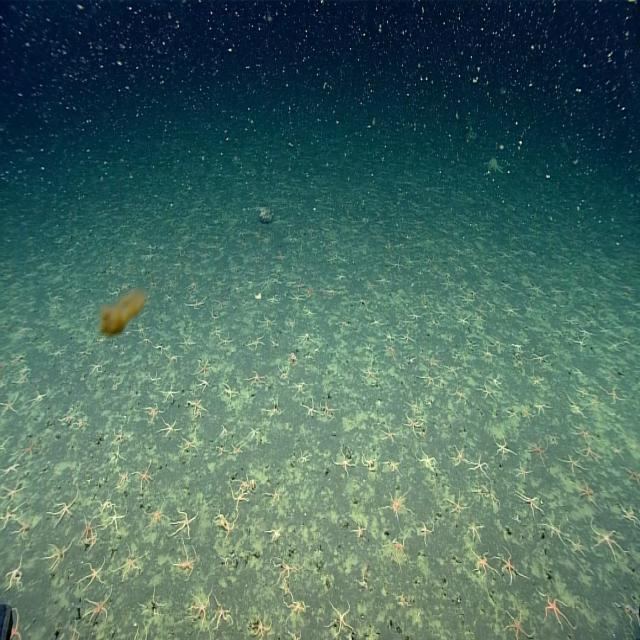brittle-stars: (182, 579, 218, 639), (0, 546, 36, 604), (534, 583, 576, 632), (585, 520, 628, 567), (536, 503, 574, 554), (319, 592, 359, 640), (111, 540, 154, 581), (73, 552, 113, 595), (464, 541, 500, 588), (80, 585, 118, 629), (168, 536, 206, 580), (41, 530, 78, 575), (607, 590, 639, 640), (226, 467, 262, 511), (497, 602, 538, 640), (511, 482, 547, 524), (279, 587, 314, 630), (48, 482, 81, 527), (136, 579, 172, 620), (209, 588, 237, 640), (500, 540, 528, 592), (140, 491, 171, 536), (167, 502, 199, 544), (267, 552, 301, 591), (130, 452, 159, 497), (329, 442, 360, 484), (442, 484, 472, 527), (381, 531, 413, 570), (460, 511, 494, 546), (208, 511, 246, 541), (241, 608, 276, 640), (382, 487, 412, 523), (571, 482, 600, 519), (555, 448, 587, 480), (102, 505, 131, 539), (412, 442, 436, 483), (595, 380, 630, 408), (0, 473, 29, 506), (486, 432, 520, 460), (9, 603, 34, 640), (472, 484, 508, 509), (474, 338, 502, 370), (417, 511, 438, 553), (0, 450, 32, 477), (158, 410, 183, 444), (263, 475, 290, 506), (446, 380, 473, 411), (13, 510, 39, 542), (579, 438, 606, 468), (0, 500, 22, 536), (261, 393, 289, 421), (79, 510, 98, 551), (184, 393, 208, 425), (60, 407, 90, 432), (526, 436, 556, 461), (449, 441, 476, 468), (125, 614, 153, 640), (467, 454, 496, 479), (570, 529, 591, 563), (298, 391, 320, 423), (0, 388, 21, 421), (13, 359, 36, 389), (217, 378, 241, 406), (440, 353, 464, 381), (569, 422, 597, 446), (381, 455, 406, 481), (512, 460, 537, 486), (564, 396, 589, 422), (353, 565, 371, 601), (179, 428, 202, 456), (399, 417, 427, 440), (618, 501, 640, 530), (229, 431, 248, 464), (242, 330, 266, 356), (259, 521, 286, 544), (359, 449, 380, 478), (414, 371, 443, 392), (619, 462, 640, 491), (96, 486, 116, 516), (26, 386, 49, 412), (110, 414, 129, 445), (182, 292, 208, 314), (423, 347, 445, 373), (245, 365, 265, 392), (88, 352, 110, 376), (176, 328, 198, 352), (294, 443, 316, 467), (346, 522, 370, 544), (379, 424, 403, 446), (316, 284, 343, 303), (319, 397, 336, 427), (250, 311, 280, 328), (216, 329, 238, 352), (528, 369, 550, 392), (474, 378, 493, 404), (192, 356, 214, 378), (218, 549, 239, 572), (387, 252, 407, 276), (532, 350, 556, 370), (145, 399, 164, 424), (161, 380, 180, 405), (609, 437, 626, 464), (47, 341, 66, 365), (396, 586, 414, 611), (67, 608, 81, 640), (108, 444, 128, 466), (494, 276, 516, 296), (402, 347, 421, 370), (420, 313, 440, 334), (501, 300, 522, 320), (166, 350, 185, 372), (182, 274, 201, 296), (404, 395, 423, 417), (118, 466, 134, 492), (565, 335, 591, 351), (208, 319, 226, 342), (294, 372, 309, 399), (290, 290, 310, 310), (360, 363, 380, 383), (334, 315, 354, 335), (211, 293, 230, 314), (360, 275, 378, 297), (452, 312, 474, 330), (213, 440, 230, 463), (247, 418, 262, 444), (510, 336, 529, 356), (133, 319, 151, 340), (276, 358, 290, 385), (534, 397, 552, 418), (440, 269, 456, 292), (302, 321, 317, 345), (397, 329, 419, 345), (154, 336, 169, 359), (376, 268, 391, 291), (458, 290, 476, 309), (262, 292, 282, 309), (488, 370, 505, 390), (284, 349, 300, 370), (522, 402, 538, 423), (363, 337, 378, 359), (196, 373, 214, 391), (354, 293, 371, 312), (218, 417, 232, 440), (282, 314, 298, 333), (270, 270, 286, 289), (435, 306, 454, 322), (137, 333, 154, 350), (210, 274, 228, 290), (267, 334, 281, 354), (382, 346, 399, 362), (379, 330, 396, 346), (258, 272, 272, 291), (411, 306, 426, 323), (149, 372, 164, 388), (301, 305, 316, 321), (372, 314, 386, 331), (109, 378, 123, 393)
